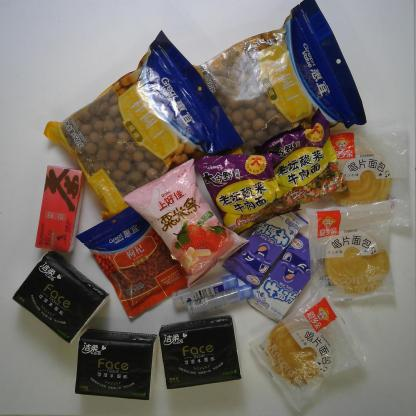Candy: (246, 232, 322, 325), (222, 211, 308, 289)
Dessert: (248, 287, 366, 414), (298, 198, 402, 302), (307, 127, 411, 228)
Dried Food: (44, 30, 247, 220), (189, 0, 369, 162)
Dried Fruit: (76, 204, 190, 318)
Instant Drink: (34, 165, 84, 253)
Instant Noodles: (252, 107, 351, 204), (194, 148, 302, 233)
Puffed Food: (122, 156, 249, 287)
Stationery: (171, 274, 240, 308), (186, 283, 252, 318)
Tissue: (11, 250, 110, 342), (73, 329, 161, 404), (159, 315, 245, 390)
